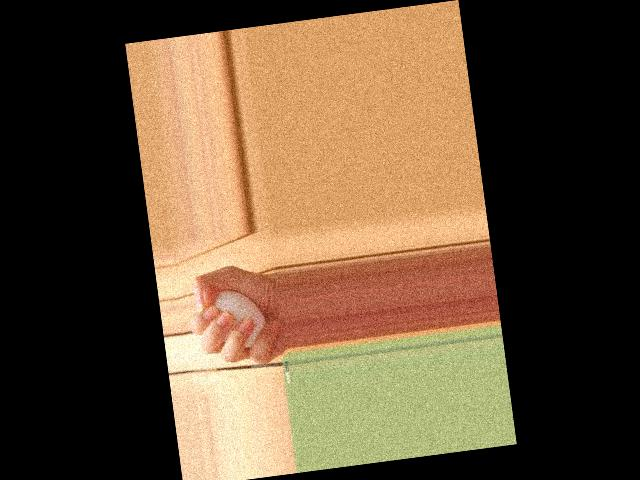egg: (207, 286, 269, 352)
